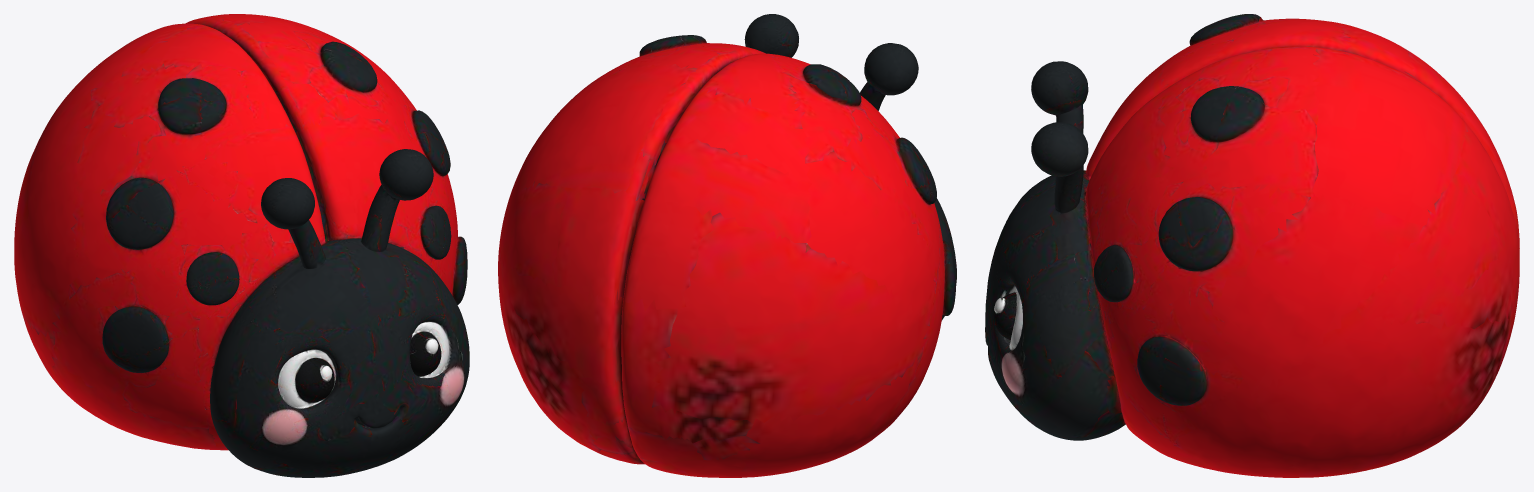
3 renders of one model, left to right at view 1: azimuth 30°, elevation 25°; view 2: azimuth 150°, elevation 25°; view 3: azimuth 270°, elevation 25°, orthographic. The views are drawn at different scales.
Bounding box in the file's own units: 1.68 × 1.45 × 1.9.
Materials: 1 (1 with a texture image).
